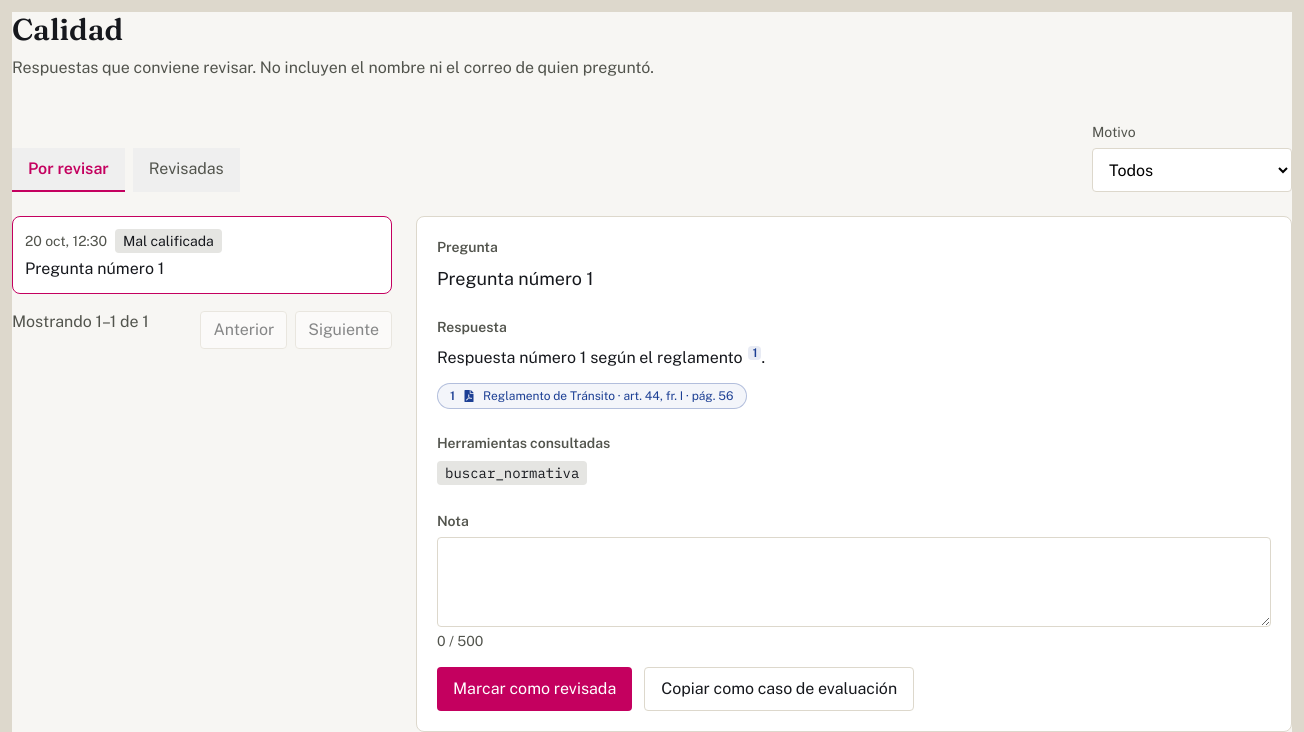
Calidad › Copiar como caso de evaluación escribe una línea JSON válida en el portapapeles
The width and height of the screenshot is (1304, 732).
Click the button "Copiar como caso de evaluación": (779, 689) [644, 667, 914, 711]
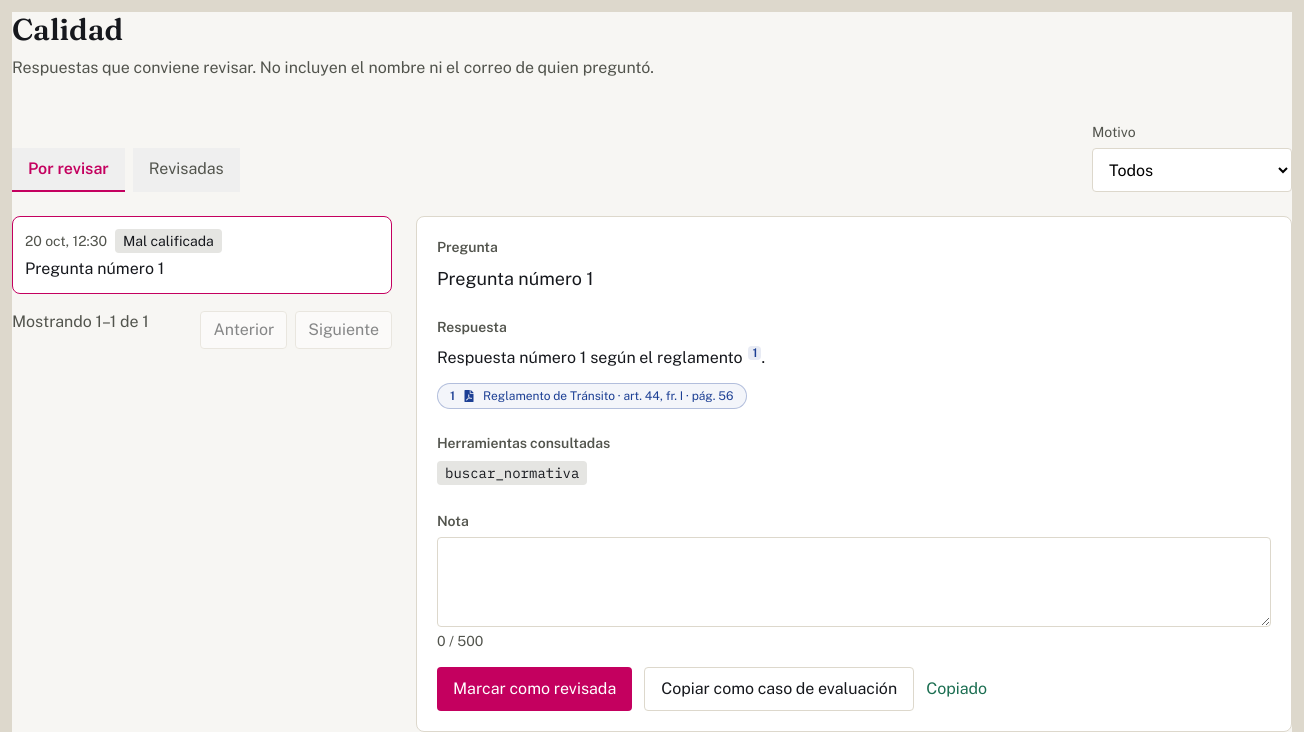
Check: the text "Copiado" is shown, box [926, 677, 987, 701]
